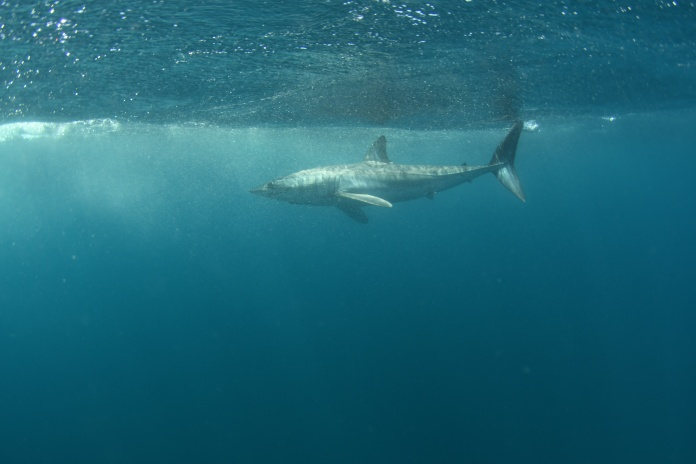Mako: (242, 114, 539, 224)
